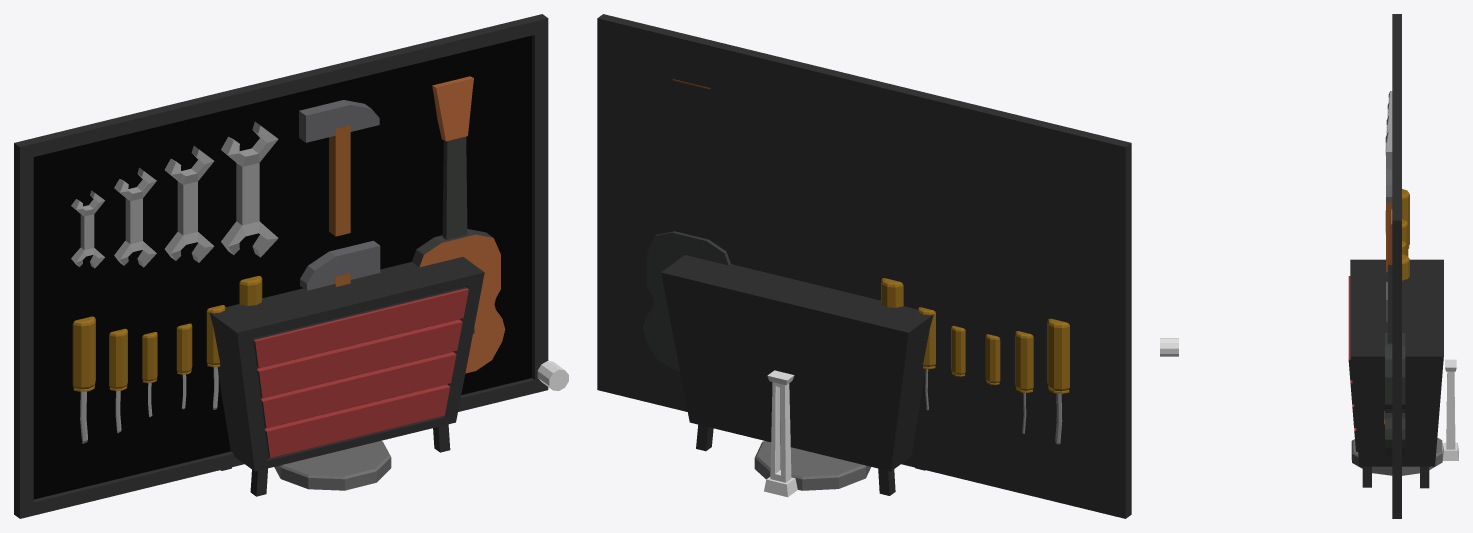
File: Bamcada2.fbx
The picture shows the model from 3 angles, left to right: view 1: azimuth 30°, elevation 25°; view 2: azimuth 150°, elevation 25°; view 3: azimuth 270°, elevation 25°; orthographic projection. The views are drawn at different scales.
Parts seen in each view (by area): view 1: Cube.001, Cube.009, Cube.004, Cube.003, Circle, Cube.007, Cube.006, Cube.008, Cylinder, Cube.005, Cylinder.002, Cube.002 (+5 smaller); view 2: Cube.001, Cube.009, Cube.004, Circle, Cube, Cylinder, Cylinder.002, Cylinder.003, Cylinder.006, Cylinder.005, Cylinder.004; view 3: Cube.009, Cube.001, Cube.004, Cube, Circle, Cube.003, Cylinder.001.
Boxes of the visible parts, left/top/right/bottom form: Cube.001: left=14, top=14, right=548, bottom=518; Cube.009: left=209, top=257, right=484, bottom=496; Cube.004: left=412, top=76, right=505, bottom=373; Cube.003: left=299, top=100, right=379, bottom=236; Circle: left=274, top=440, right=391, bottom=490; Cube.007: left=221, top=121, right=278, bottom=257; Cube.006: left=164, top=146, right=214, bottom=262; Cube.008: left=300, top=240, right=380, bottom=290; Cylinder: left=72, top=316, right=95, bottom=443; Cube.005: left=114, top=167, right=156, bottom=267; Cylinder.002: left=109, top=328, right=127, bottom=433; Cube.002: left=71, top=190, right=104, bottom=268; Cube.001: left=597, top=14, right=1131, bottom=518; Cube.009: left=661, top=255, right=933, bottom=495; Cube.004: left=643, top=79, right=730, bottom=370; Circle: left=754, top=441, right=870, bottom=490; Cube: left=764, top=370, right=797, bottom=497; Cylinder: left=1047, top=318, right=1069, bottom=444; Cylinder.002: left=1015, top=331, right=1033, bottom=433; Cylinder.003: left=985, top=334, right=1000, bottom=384; Cylinder.006: left=951, top=325, right=965, bottom=376; Cylinder.005: left=917, top=307, right=935, bottom=410; Cylinder.004: left=881, top=278, right=903, bottom=307; Cube.009: left=1348, top=259, right=1443, bottom=488; Cube.001: left=1392, top=14, right=1401, bottom=518; Cube.004: left=1384, top=209, right=1405, bottom=456; Cube: left=1442, top=359, right=1458, bottom=460; Circle: left=1351, top=437, right=1442, bottom=475; Cube.003: left=1386, top=152, right=1392, bottom=272; Cylinder.001: left=1160, top=338, right=1178, bottom=356.
Bounding box in the file's own units: 1024 × 737 × 625.
